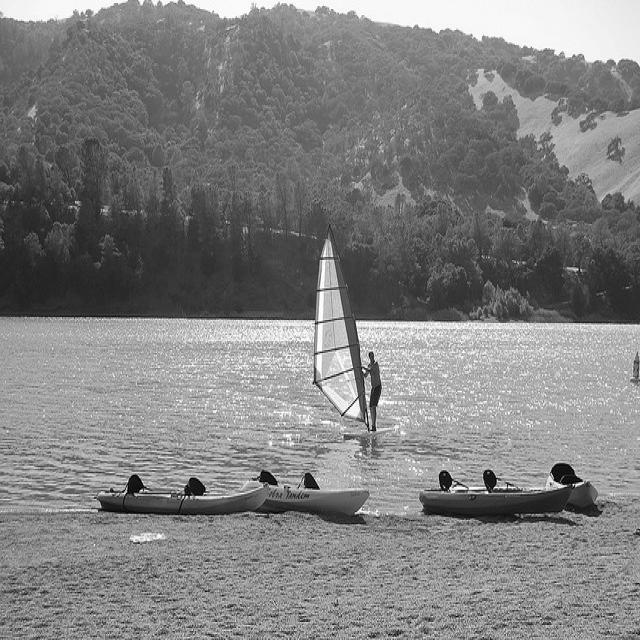monkey: (361, 349, 383, 433)
